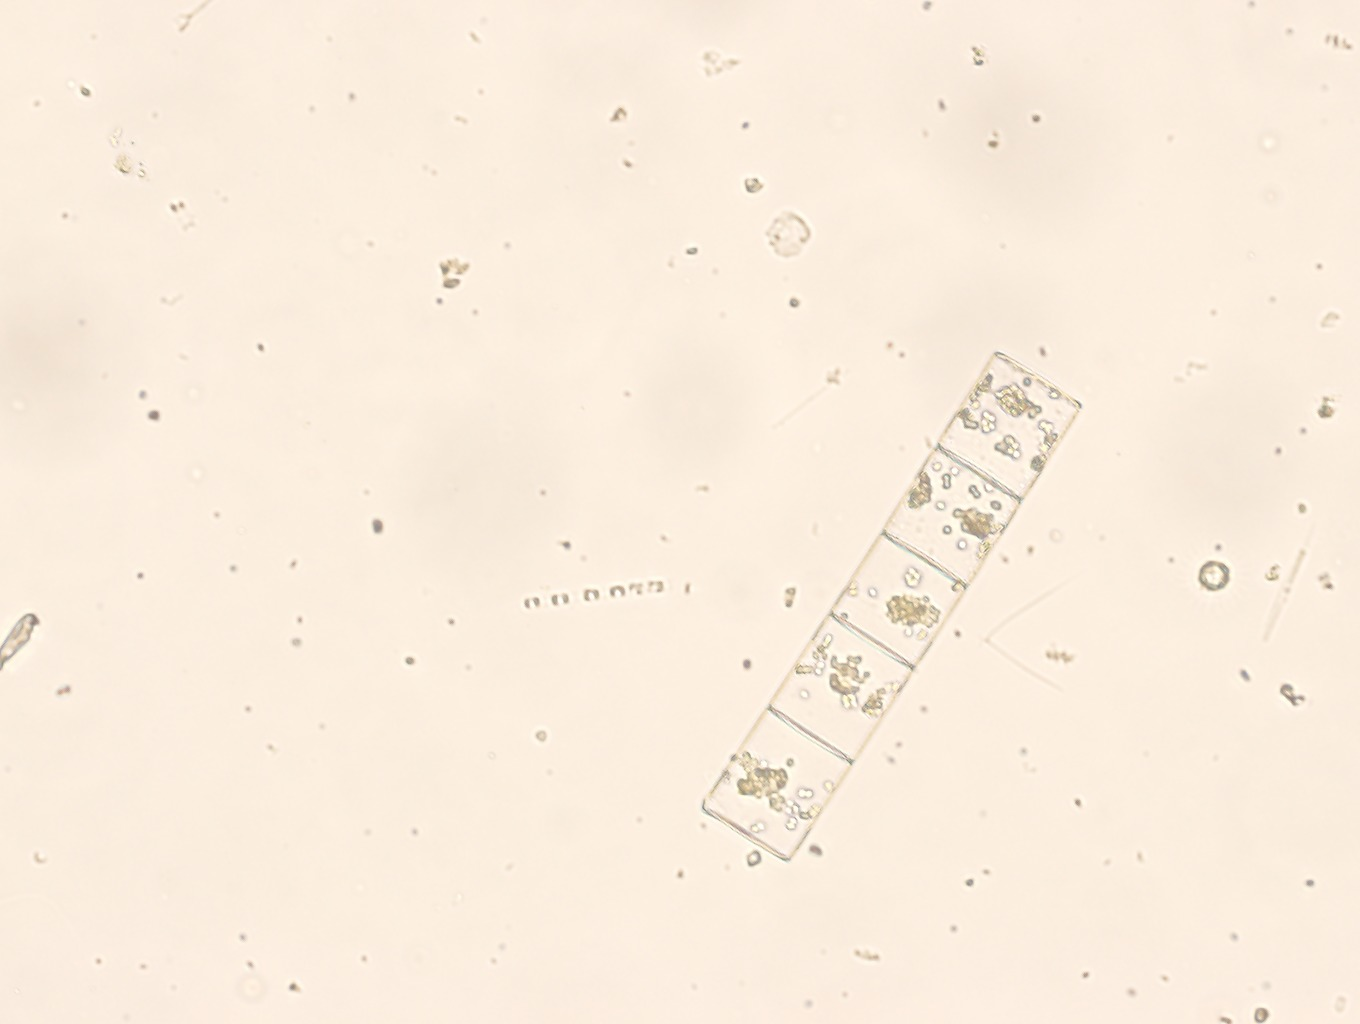guinardia flaccida: (689, 342, 1085, 867)
skeletonema: (513, 573, 692, 623)
